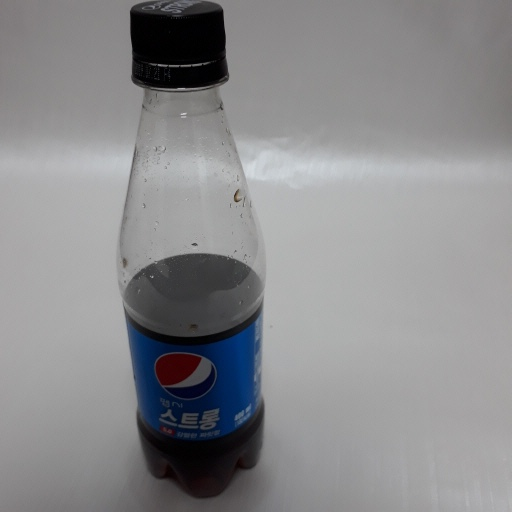Plastic_0: (115, 3, 269, 499)
